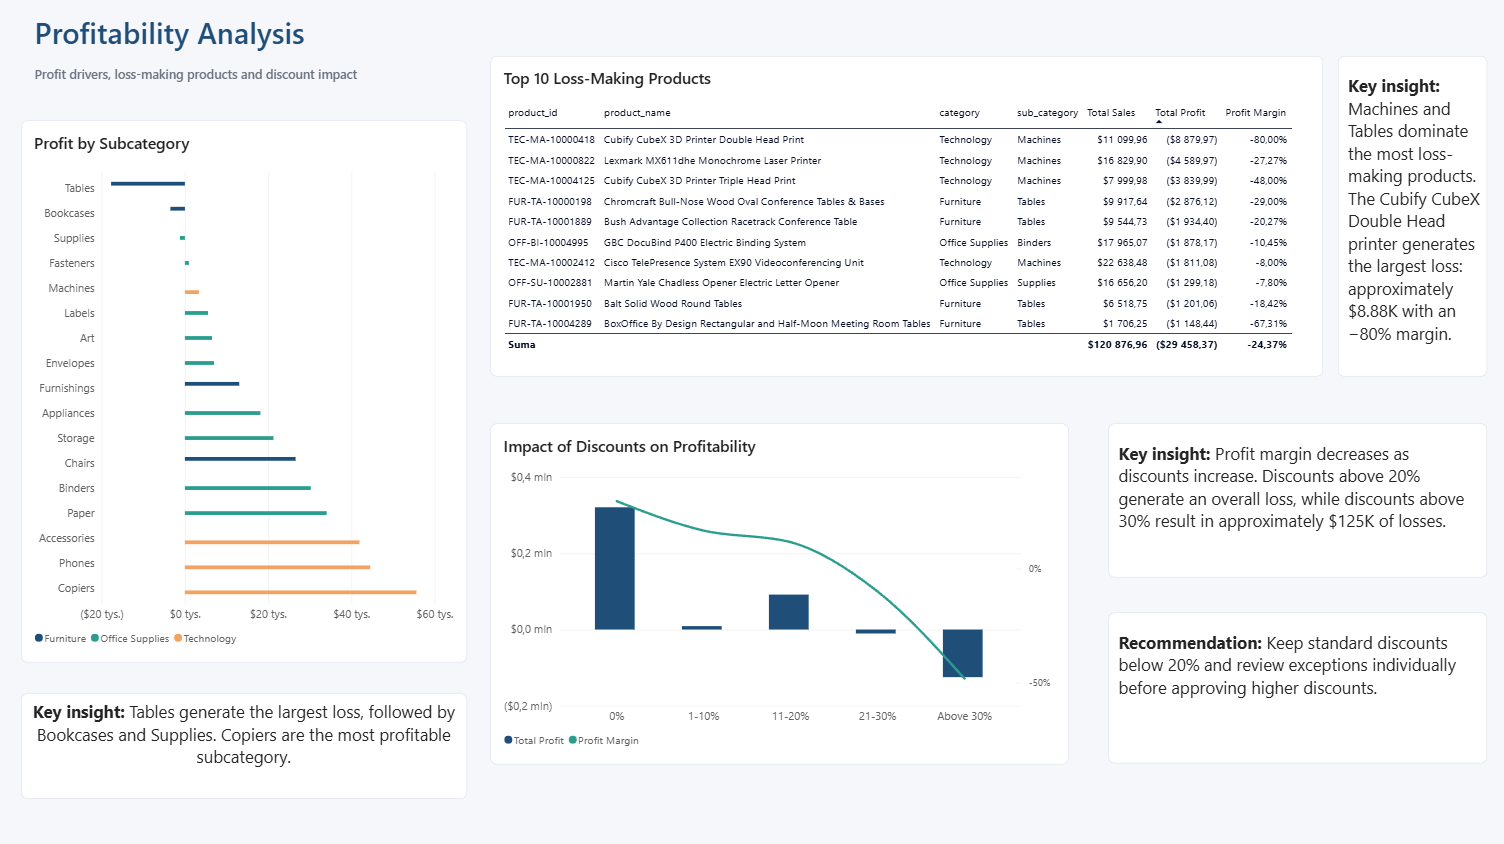

The page's visual inventory and layout, read from the dashboard file:
{"tool":"powerbi","page":{"name":"Profitability Analysis","canvas":[1920,1080],"ordinal":1},"visuals":[{"type":"clusteredBarChart","title":"Profit by Subcategory","fields":{"Category":["orders.sub_category"],"Series":["orders.category"],"Y":["_Measures.Total Profit"]},"box":[26,154,568,690],"z":0},{"type":"lineClusteredColumnComboChart","title":"Impact of Discounts on Profitability","fields":{"Category":["orders.Discount Band"],"Y":["_Measures.Total Profit"],"Y2":["_Measures.Profit Margin"]},"box":[624,540,736,434],"z":1000},{"type":"tableEx","title":"Top 10 Loss-Making Products","fields":{"Values":["orders.product_id","orders.product_name","orders.category","orders.sub_category","_Measures.Total Sales","_Measures.Total Profit","_Measures.Profit Margin"]},"box":[624.5,72.6,1044.7,408.7],"z":2000},{"type":"textbox","box":[44,18,438,106],"z":3000},{"type":"textbox","box":[26,884,568,134],"z":4000},{"type":"textbox","box":[1694,72.6,200.5,406.8],"z":5000},{"type":"textbox","box":[1412,540,482,196],"z":6000},{"type":"textbox","box":[1412,782,482,192],"z":7000}]}

Visuals, with their boxes in screenshot pixels (x1, y1, x2, y2), scaled from the page's 1920x1080 canvas onto the 1504x844 screenshot:
"Profit by Subcategory" clusteredBarChart: BBox(20, 120, 465, 660)
"Impact of Discounts on Profitability" lineClusteredColumnComboChart: BBox(489, 422, 1065, 761)
"Top 10 Loss-Making Products" tableEx: BBox(489, 57, 1308, 376)
textbox: BBox(34, 14, 378, 97)
textbox: BBox(20, 691, 465, 796)
textbox: BBox(1327, 57, 1484, 375)
textbox: BBox(1106, 422, 1484, 575)
textbox: BBox(1106, 611, 1484, 761)
